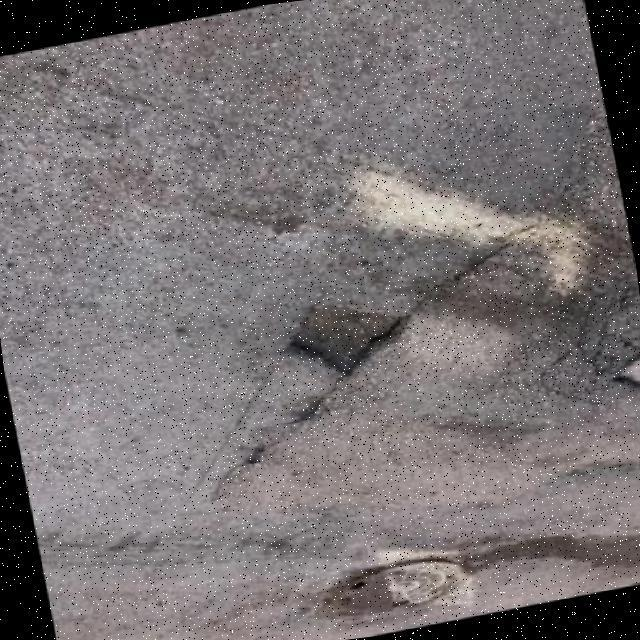Pothole: (289, 302, 409, 374)
